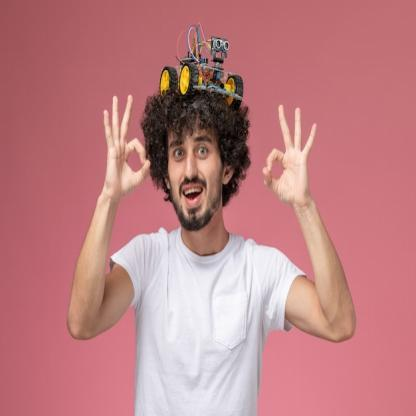ok: (262, 104, 317, 209), (101, 93, 152, 199)
